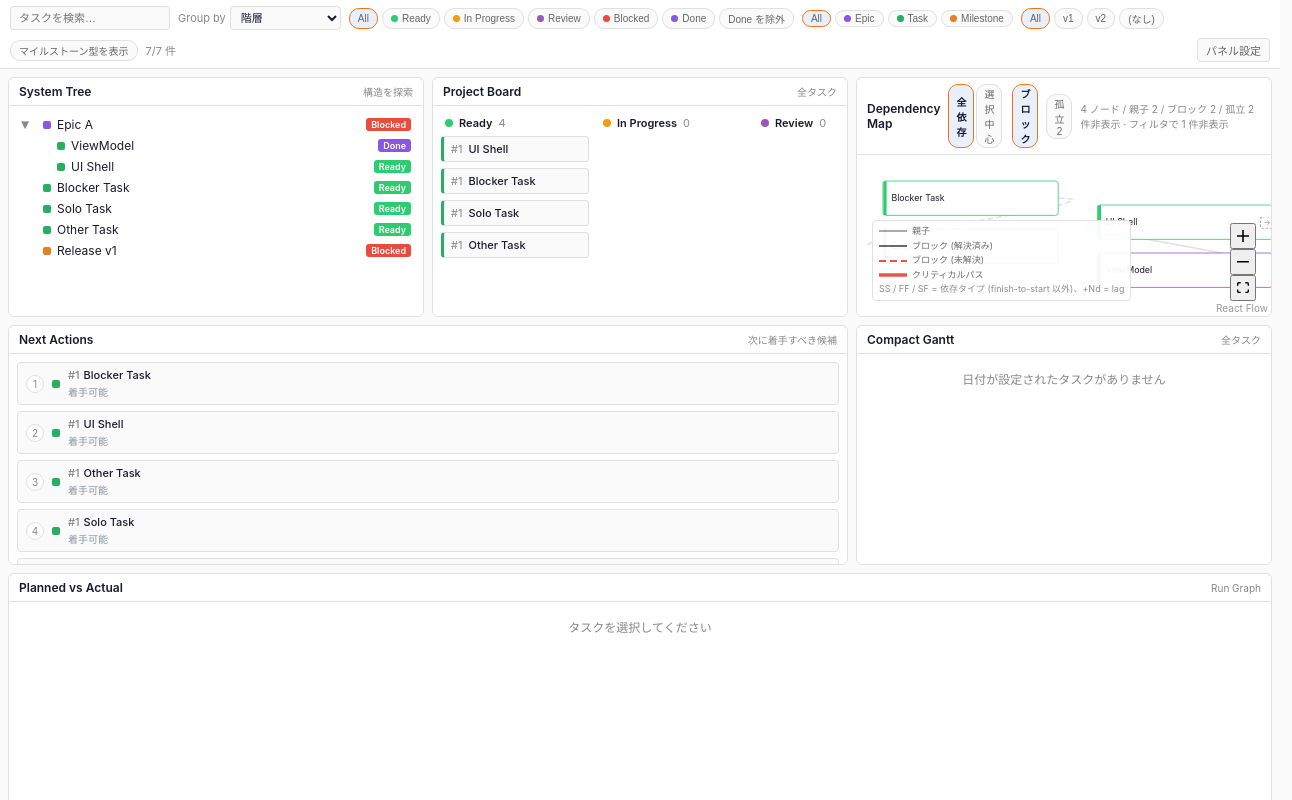
[FR-VIS-030-AC3] 自身に milestone が未設定でも祖先に設定があれば子孫タスクが絞り込みに含まれ、継承は parent / sub_tasks のみを辿り blocked_by は辿らない › t1 / t2 は epic の v1 を継承し、epic をブロックする blk は継承しない
Click the button "v1".
click(1068, 18)  # box [1054, 8, 1083, 28]
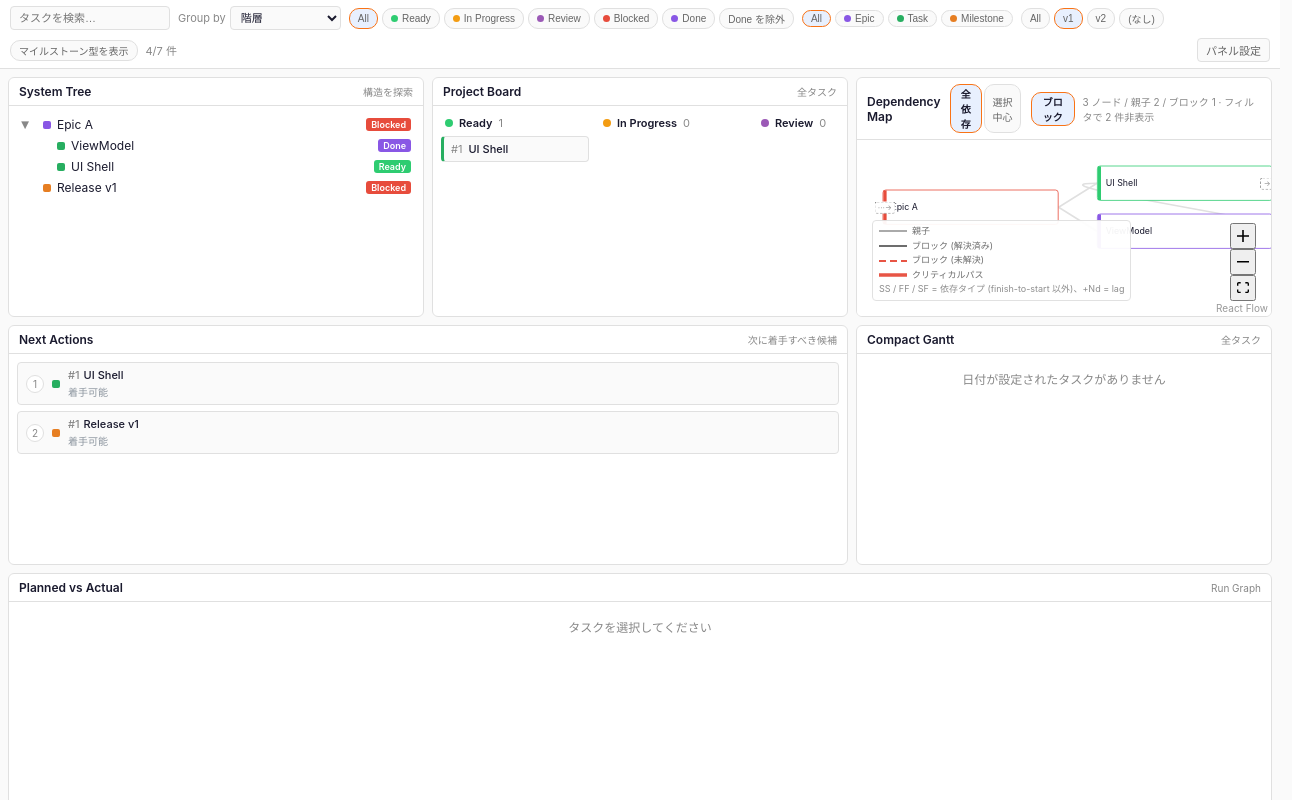
Check: the element named "Project Board" shows "UI Shell", box [468, 142, 508, 156]
Check: the button named "Project Board" no longer shows "Blocker Task"
